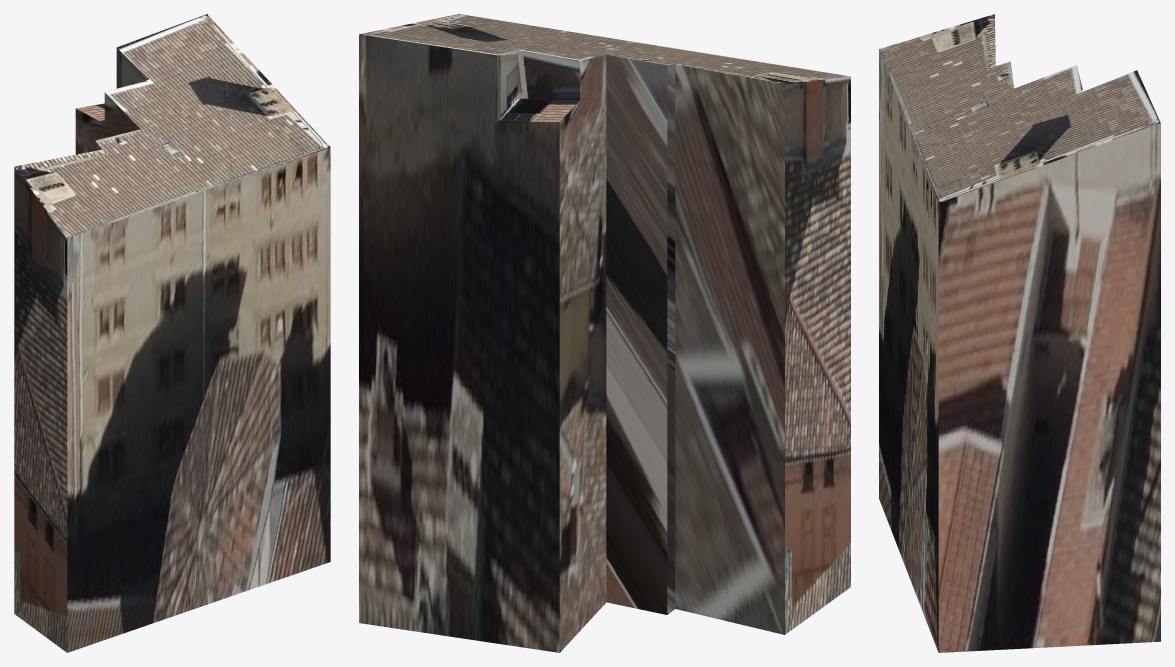
3 views of the same model, side by side, from view 1: azimuth 30°, elevation 25°; view 2: azimuth 150°, elevation 25°; view 3: azimuth 270°, elevation 25° (orthographic). The views are drawn at different scales.
Parts seen in each view (by area): view 1: Z_UP; view 2: Z_UP; view 3: Z_UP.
Boxes of the visible parts, <box> form: Z_UP: <box>14,14,330,652</box>; Z_UP: <box>359,14,850,652</box>; Z_UP: <box>879,14,1160,652</box>.
Bounding box in the file's own units: 15.37 × 24.14 × 11.88.
2 materials, 1 textured.
